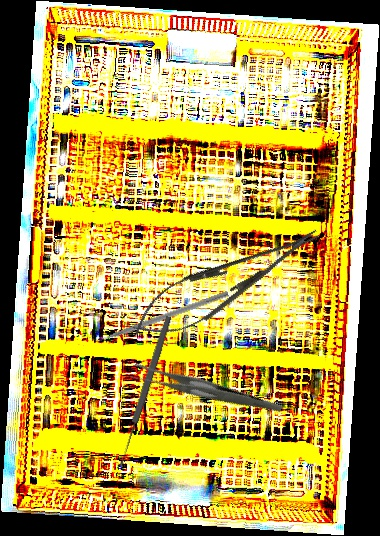Chopper: (86, 283, 229, 347)
Dressing Forceps: (127, 326, 284, 457)
Needle Holder: (123, 212, 330, 353)
Surgical Spoon: (115, 315, 174, 468)
